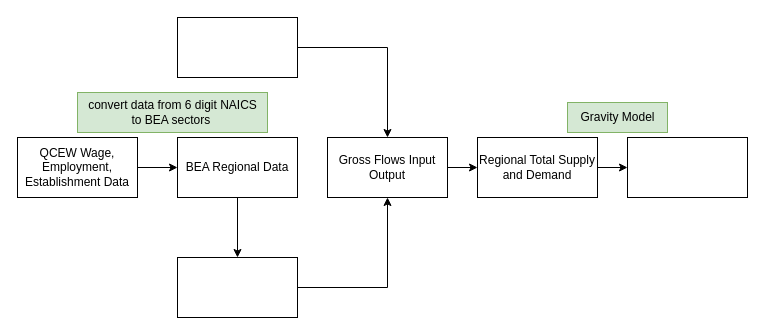
Some shapes in this 765 by 335 pixel diagram are drawn without their labels. The centre of each missing label's shape, as x and y in pixels:
Multiregional Input Output: pixel 687 167
Production Functions: pixel 237 47
Regional Input Output Control Tables: pixel 237 287
